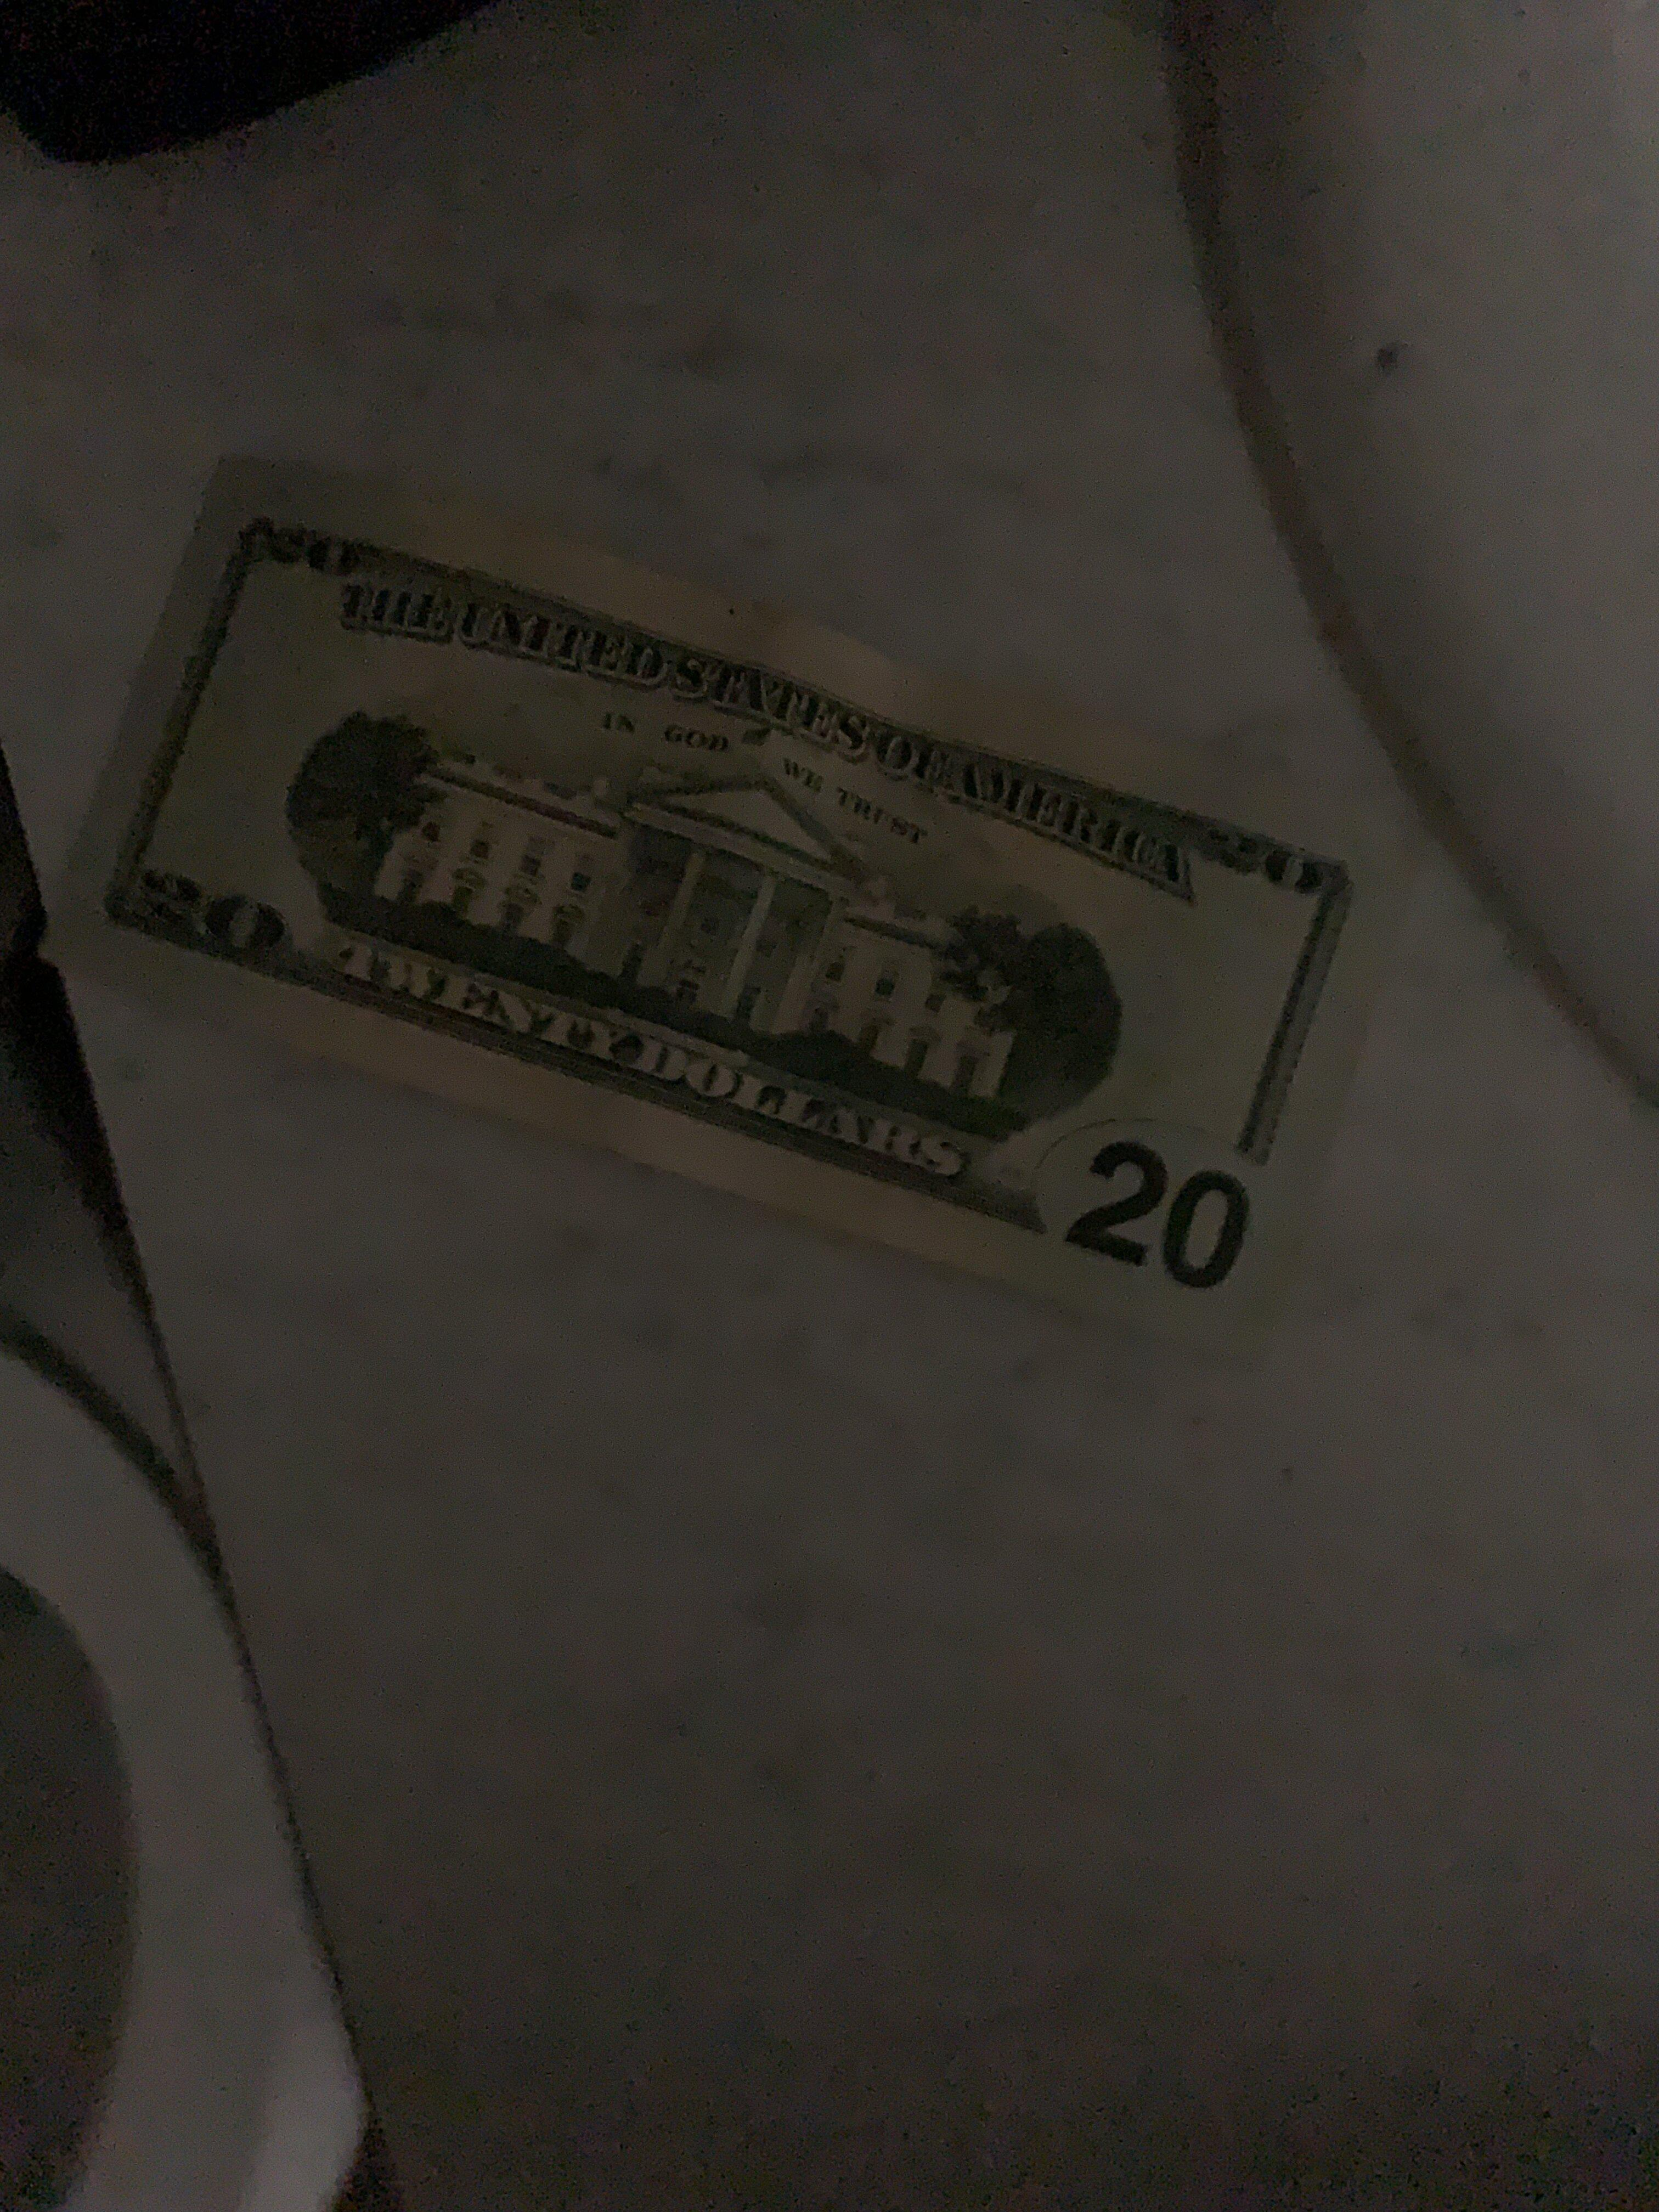TwentyBill: (7, 399, 1453, 1439)
